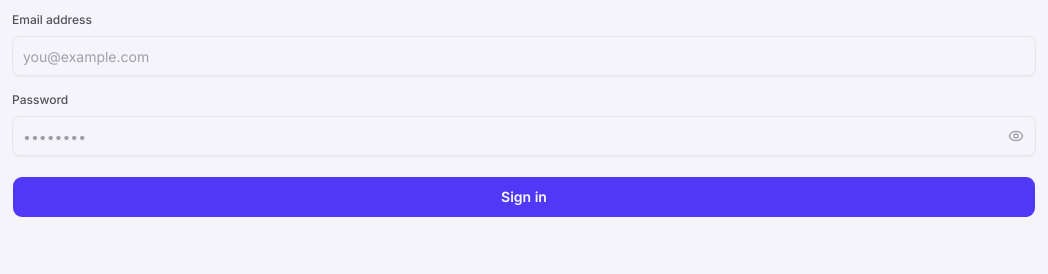
it: Login › displays an error if credentials are invalid
Type "test@gmail.com" into the field labelled "Email address" at (524, 56), box [12,36,1036,76]
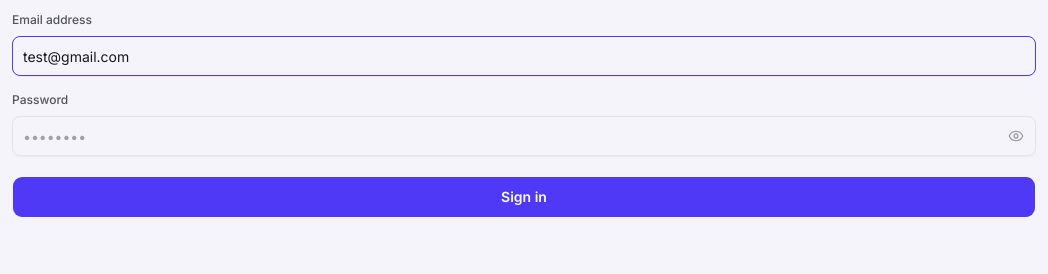
Type "password123" into the password field labelled "Password" at (524, 136), box [12,116,1036,156]
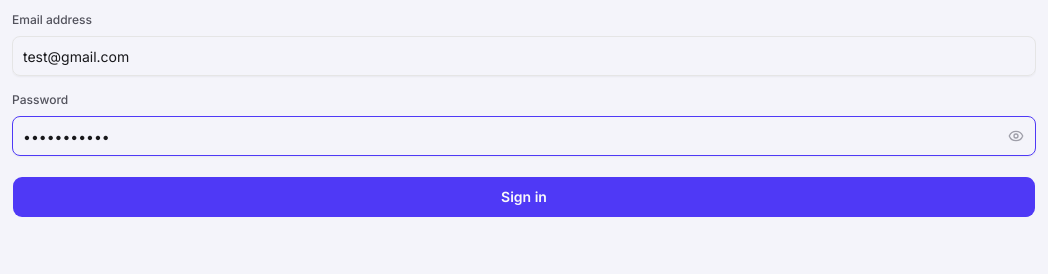
Click the button "Sign in" at (524, 197), box [12,176,1036,218]
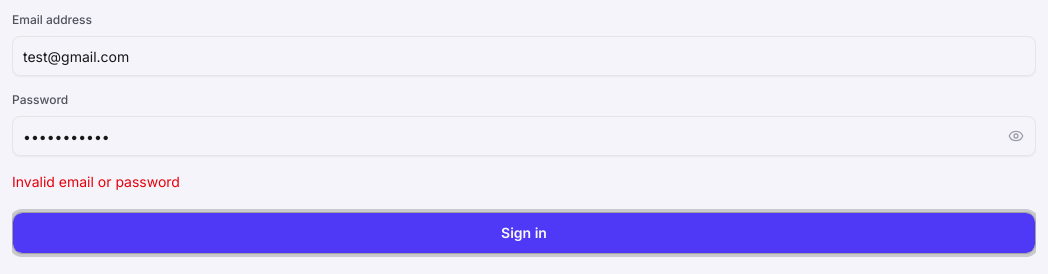
Check: the text "Invalid email or password" is shown, box [12,173,180,190]
